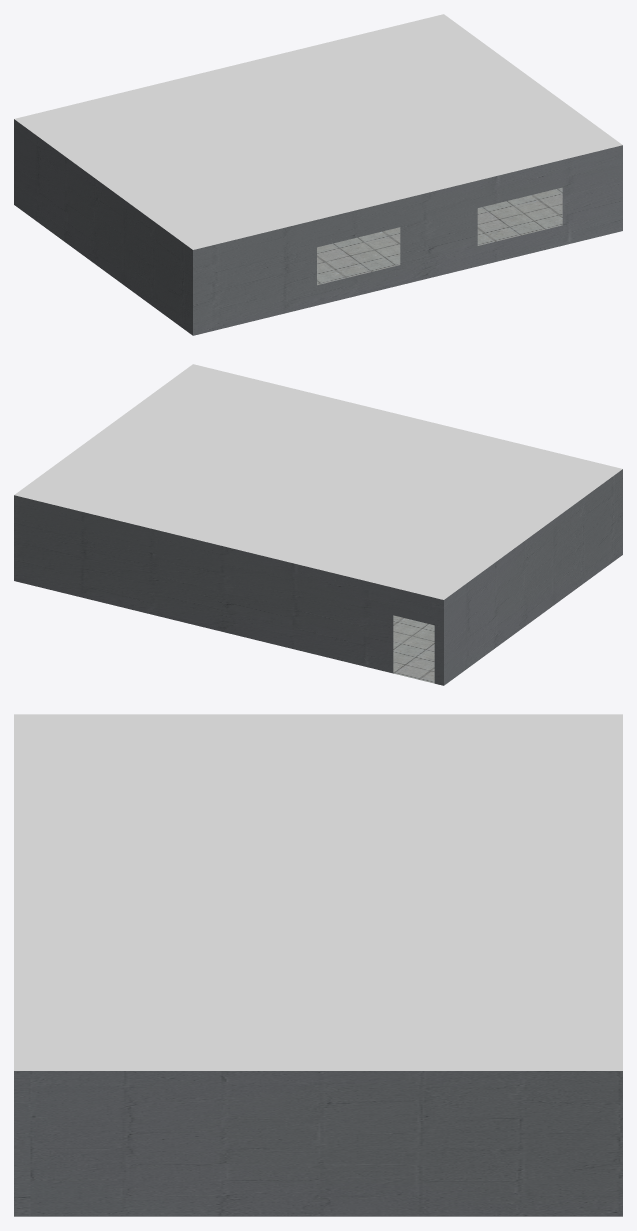
File: AULAT2_BLENDER.fbx
3 renders of one model, top to bottom at view 1: azimuth 30°, elevation 25°; view 2: azimuth 150°, elevation 25°; view 3: azimuth 270°, elevation 25°, orthographic. The views are drawn at different scales.
Visible parts, largest first — view 1: Techo, Paredes, Piso.001; view 2: Techo, Paredes, Piso.001; view 3: Techo, Paredes.
Boxes of the visible parts, bbox=[...] form: Techo: bbox=[14, 14, 622, 249]; Paredes: bbox=[14, 119, 622, 335]; Piso.001: bbox=[317, 187, 562, 285]; Techo: bbox=[14, 364, 622, 599]; Paredes: bbox=[14, 469, 622, 685]; Piso.001: bbox=[393, 615, 434, 683]; Techo: bbox=[14, 714, 622, 1070]; Paredes: bbox=[14, 1071, 622, 1216].
Bounding box in the file's own units: 9426 × 1798 × 6802.
